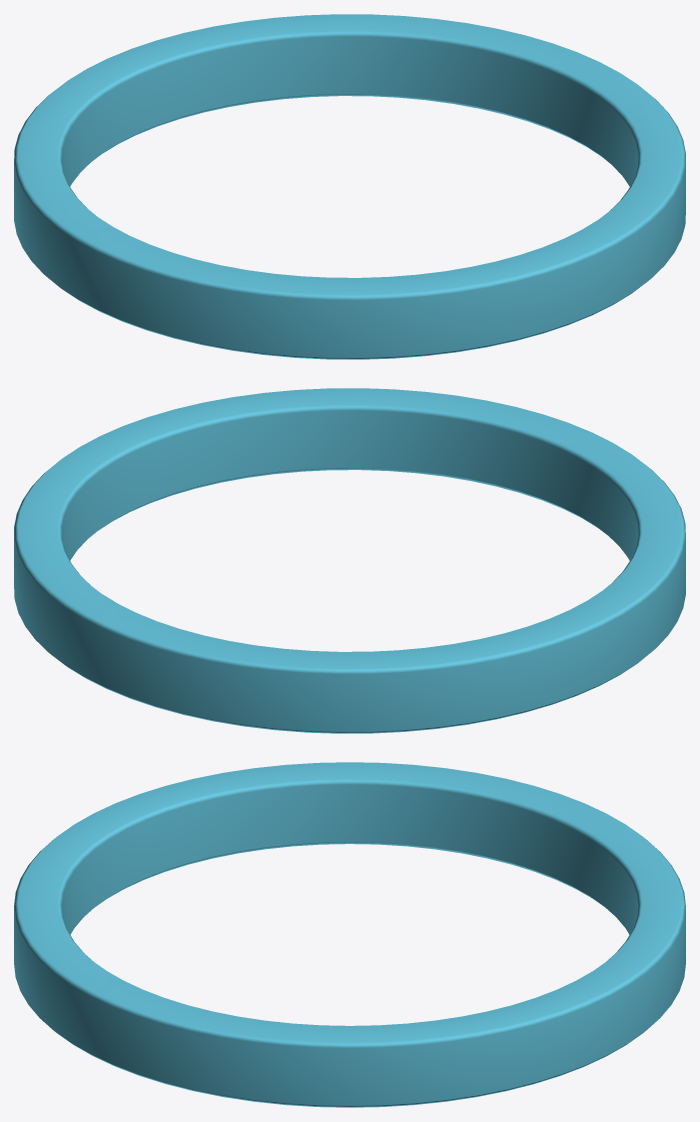
3 views of the same model, one above another, from view 1: azimuth 30°, elevation 25°; view 2: azimuth 150°, elevation 25°; view 3: azimuth 270°, elevation 25° (orthographic).
Parts seen in each view (by area): view 1: seal_body; view 2: seal_body; view 3: seal_body.
Boxes of the visible parts, <box> form: seal_body: <box>14,14,685,359</box>; seal_body: <box>14,388,685,733</box>; seal_body: <box>14,762,685,1107</box>.
Bounding box in the file's own units: 0.0889 × 0.00952 × 0.0889.
